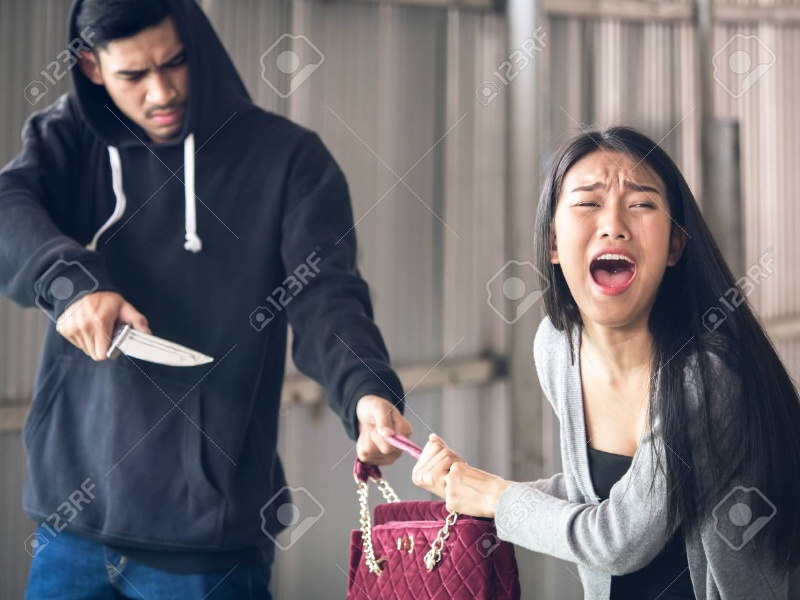bonnet: (66, 4, 252, 154)
hand: (410, 434, 515, 532), (51, 293, 146, 363), (351, 387, 411, 467)
knife: (106, 323, 214, 366)
person: (3, 3, 410, 600), (411, 124, 800, 600)
